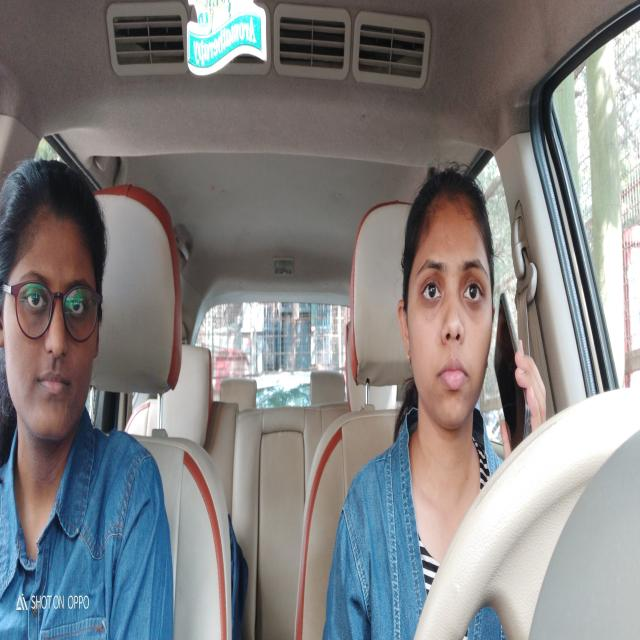mobile: (492, 286, 530, 448)
person: (1, 150, 110, 452), (394, 164, 500, 440)
